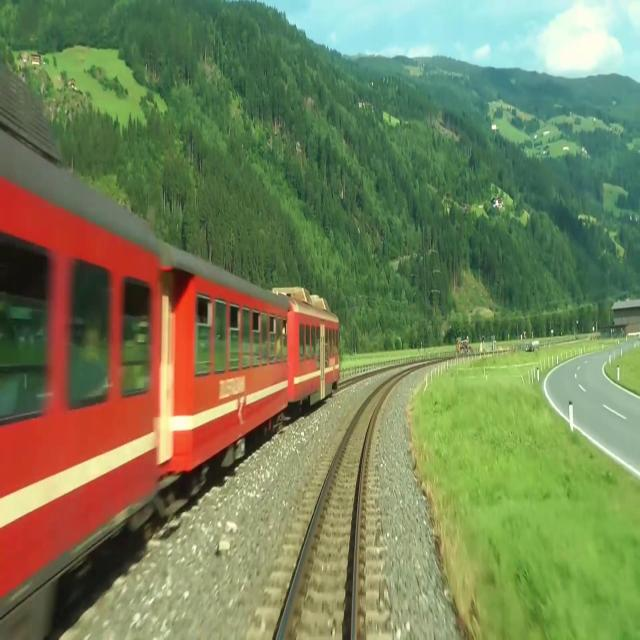rail-track: (280, 386, 386, 639)
